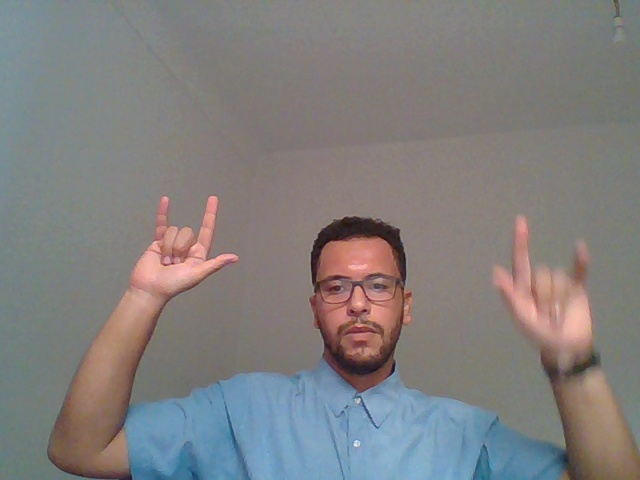iloveyou: (100, 159, 257, 402), (471, 195, 612, 434)
